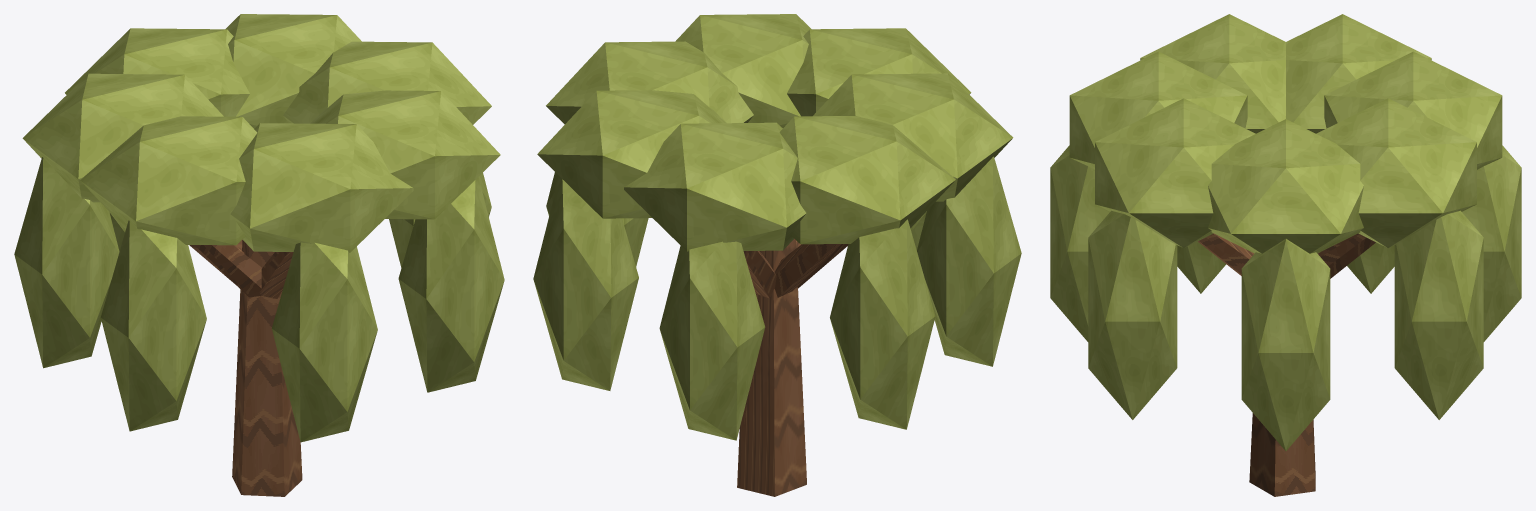
File: arvore-salgueiro-v03.gltf
3 renders of one model, left to right at view 1: azimuth 30°, elevation 25°; view 2: azimuth 150°, elevation 25°; view 3: azimuth 270°, elevation 25°, orthographic.
Visible parts, largest first — view 1: tronco-galhos-copa; view 2: tronco-galhos-copa; view 3: tronco-galhos-copa.
Boxes of the visible parts, <box> form: tronco-galhos-copa: <box>14,14,504,496</box>; tronco-galhos-copa: <box>533,14,1021,496</box>; tronco-galhos-copa: <box>1050,14,1521,496</box>.
Size of the model in its own units: 3.53 by 3.33 by 3.61.
Materials: 1 (1 with a texture image).
